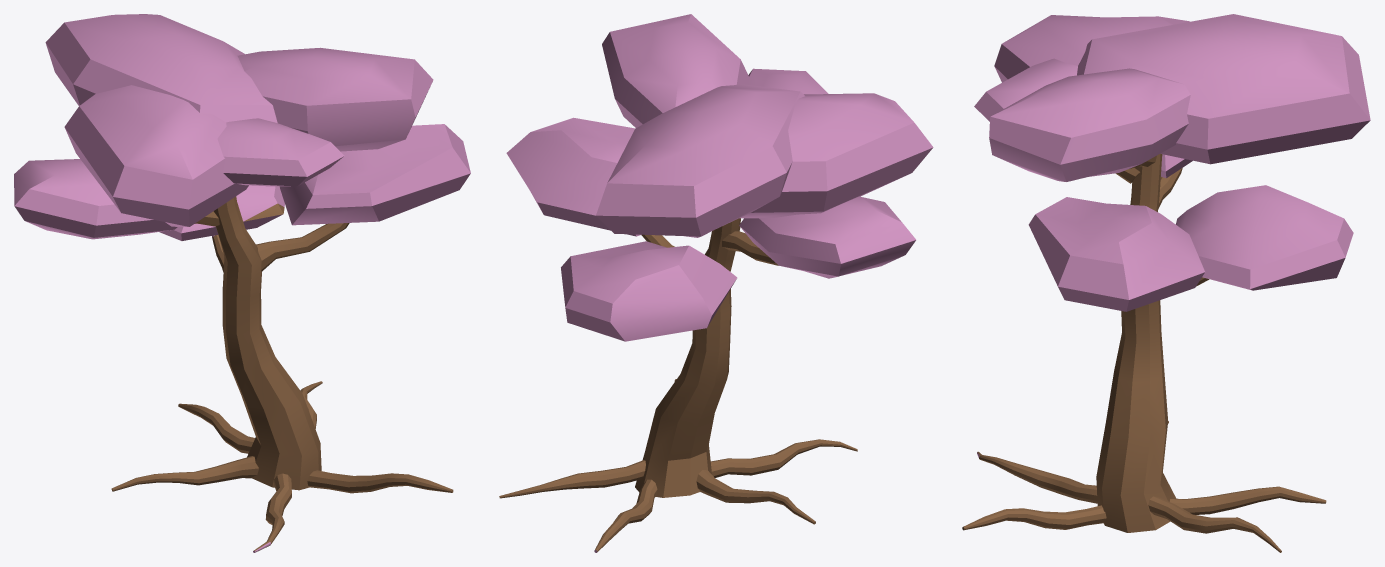
File: Cherry Blossom.fbx
3 renders of one model, left to right at view 1: azimuth 30°, elevation 25°; view 2: azimuth 150°, elevation 25°; view 3: azimuth 270°, elevation 25°, orthographic. The views are drawn at different scales.
Visible parts, largest first — view 1: Cherry_blossom_01; view 2: Cherry_blossom_01; view 3: Cherry_blossom_01.
Boxes of the visible parts, x1,y1,x2,y2 form: Cherry_blossom_01: (14, 14, 470, 552); Cherry_blossom_01: (499, 14, 933, 552); Cherry_blossom_01: (962, 14, 1370, 552).
Bounding box in the file's own units: 14.78 × 14.1 × 11.81.
1 material, 1 textured.
